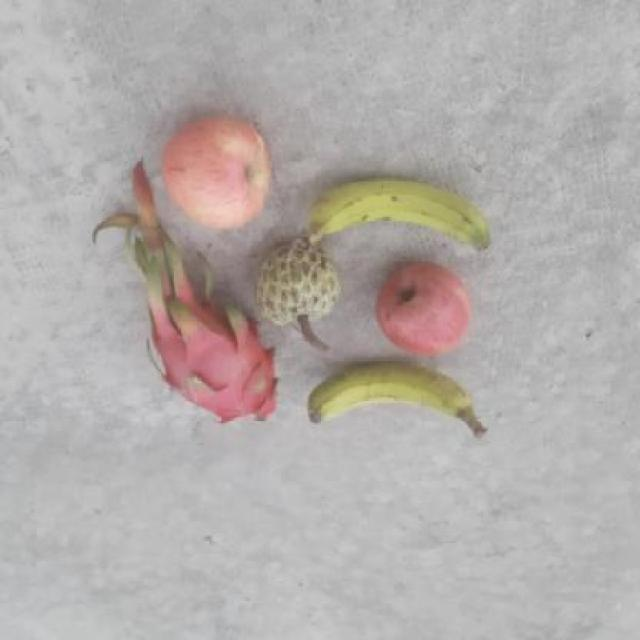apple: (160, 111, 277, 231), (374, 260, 472, 362)
banana: (303, 178, 489, 253), (293, 362, 476, 426)
dragon fruit: (133, 300, 282, 435)
sugar apple: (248, 236, 342, 336)
